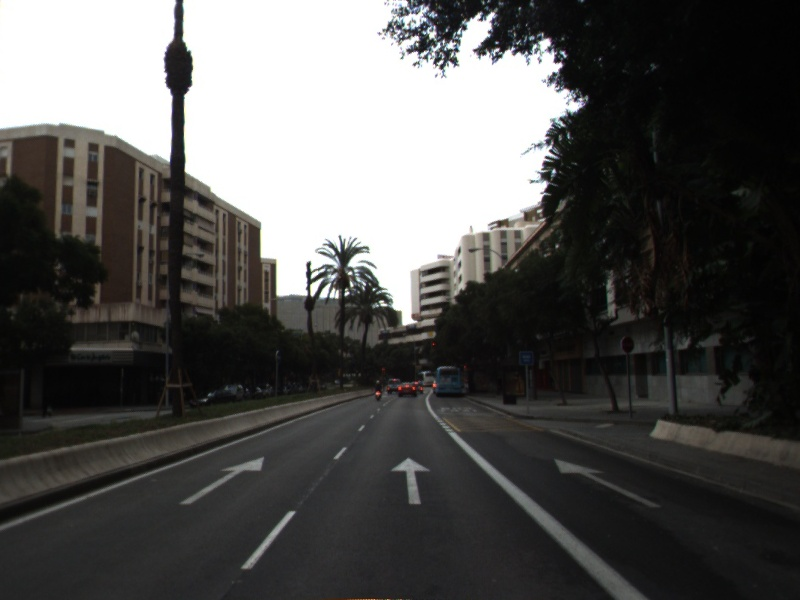STRAIGHT: (552, 457, 663, 510), (177, 455, 266, 506), (389, 455, 434, 506)
